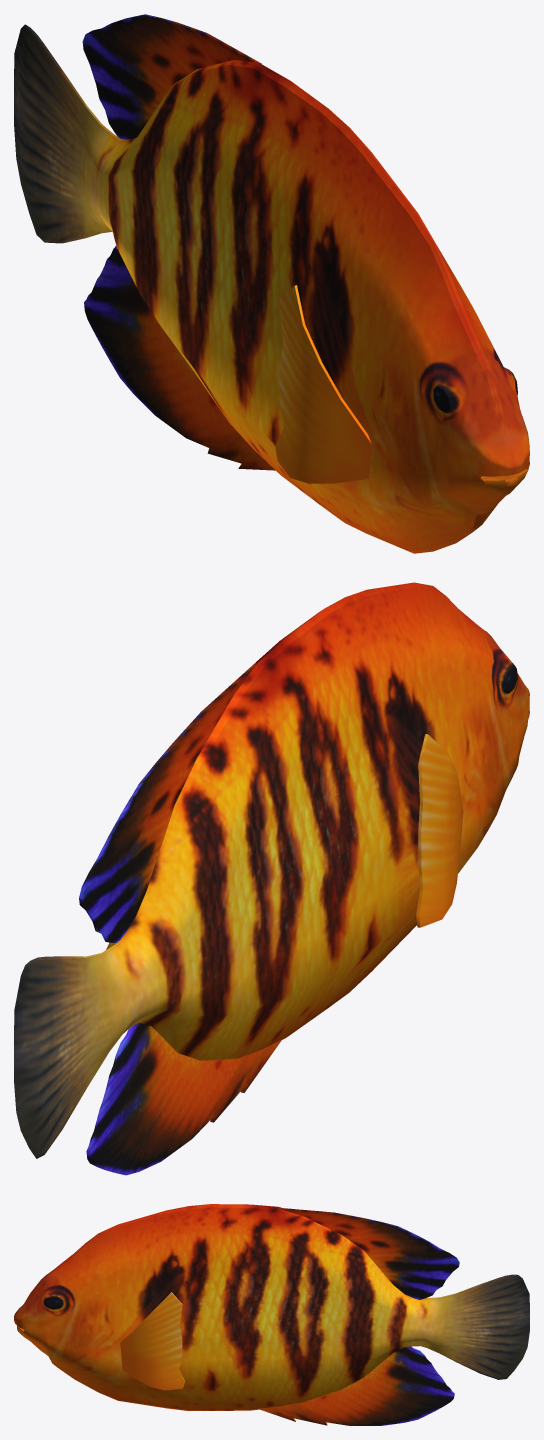
File: FlameAngel.fbx
3 renders of one model, top to bottom at view 1: azimuth 30°, elevation 25°; view 2: azimuth 150°, elevation 25°; view 3: azimuth 270°, elevation 25°, orthographic. The views are drawn at different scales.
Parts seen in each view (by area): view 1: fish; view 2: fish; view 3: fish.
Boxes of the visible parts, x1,y1,x2,y2 form: fish: (14,14,529,553); fish: (14,582,529,1175); fish: (14,1204,529,1425).
Size of the model in its own units: 3.75 by 9.88 by 20.84.
1 material, 1 textured.
